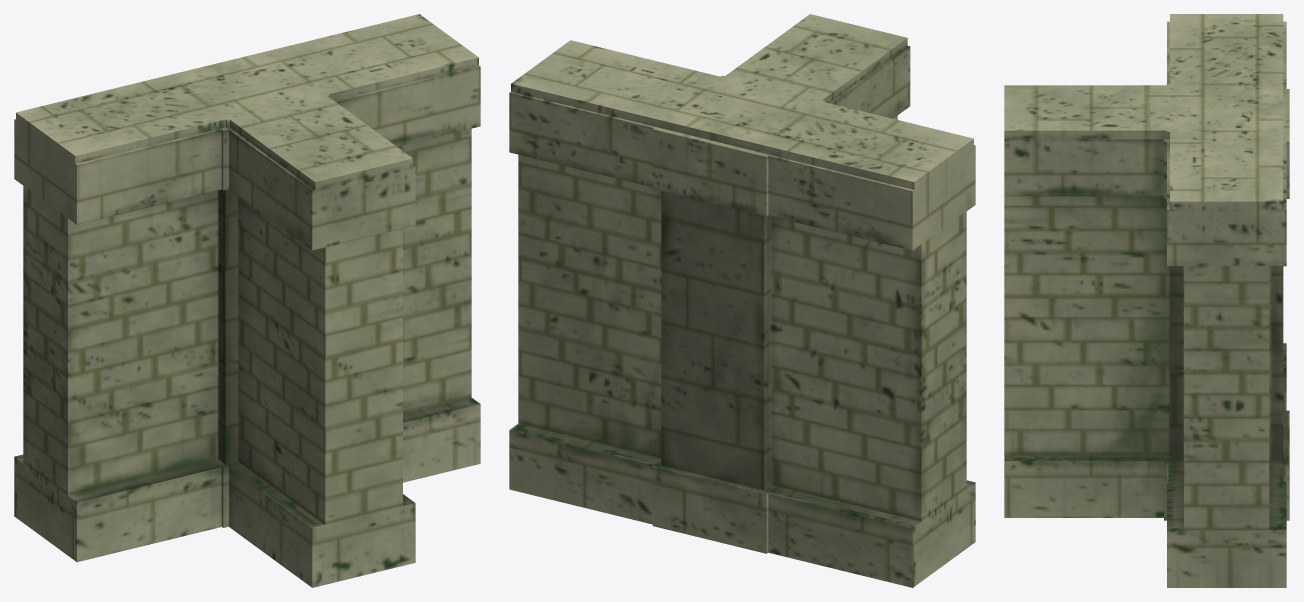
The model's file is T Wall.fbx.
The picture shows the model from 3 angles, left to right: view 1: azimuth 30°, elevation 25°; view 2: azimuth 150°, elevation 25°; view 3: azimuth 270°, elevation 25°; orthographic projection. The views are drawn at different scales.
Parts seen in each view (by area): view 1: T Wall; view 2: T Wall; view 3: T Wall.
Part boxes in pixels (x1,y1,x2,y2): T Wall: [14, 14, 480, 587]; T Wall: [509, 14, 975, 587]; T Wall: [1004, 14, 1289, 587].
Size of the model in its own units: 533 by 511 by 342.
1 material, 1 textured.
